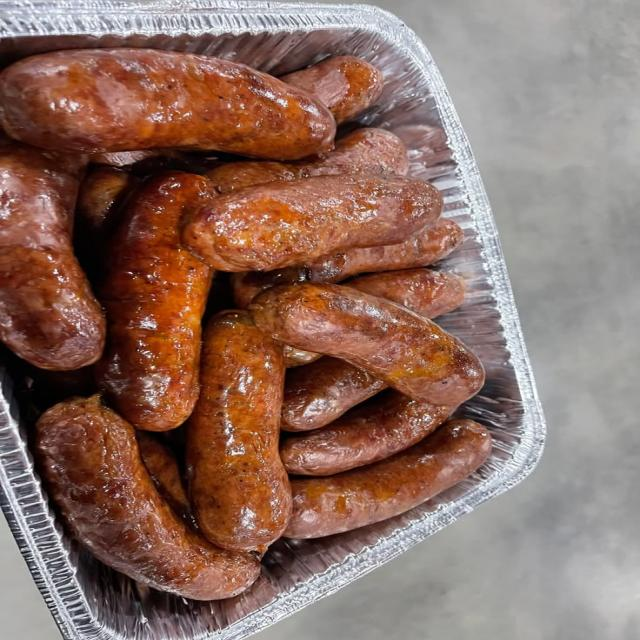sausage: (36, 397, 259, 600), (0, 49, 335, 159), (95, 173, 211, 430), (250, 283, 484, 405), (183, 175, 442, 272), (187, 311, 291, 550), (285, 420, 491, 538), (0, 140, 105, 370), (232, 218, 463, 307), (280, 391, 454, 475), (207, 128, 408, 193), (281, 357, 387, 431), (282, 357, 386, 431), (74, 166, 137, 281), (281, 56, 383, 123), (344, 269, 466, 318), (137, 431, 192, 523), (76, 166, 132, 250), (26, 366, 97, 410), (89, 149, 200, 172), (394, 124, 451, 167), (88, 148, 164, 168), (284, 346, 321, 367)
